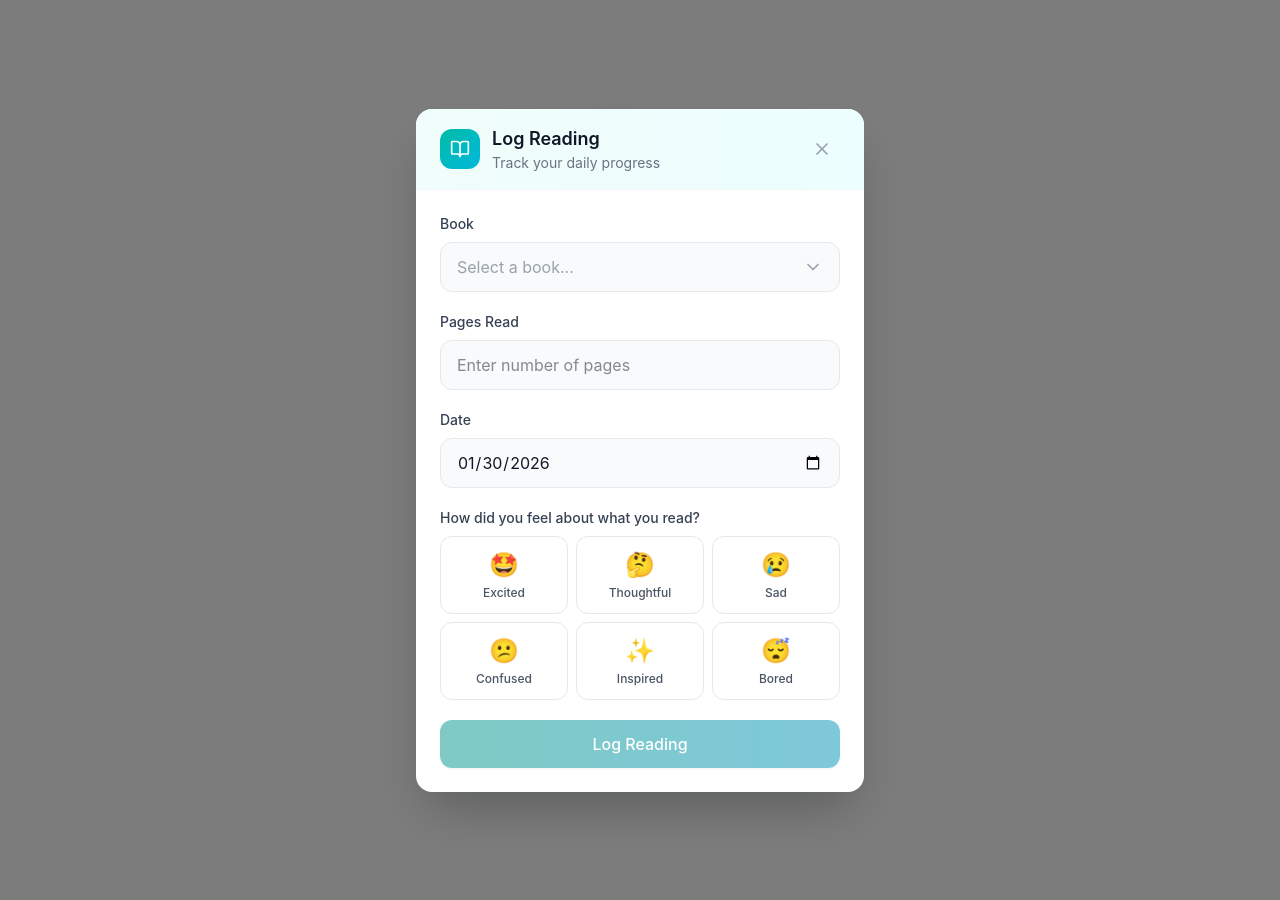
Test case: ReadingCheckinModal › form submission › enables submit button when book and pages are filled
Select a book
Click the button "Select a book..." at (515, 266), box x1=440 y1=242 x2=840 y2=292
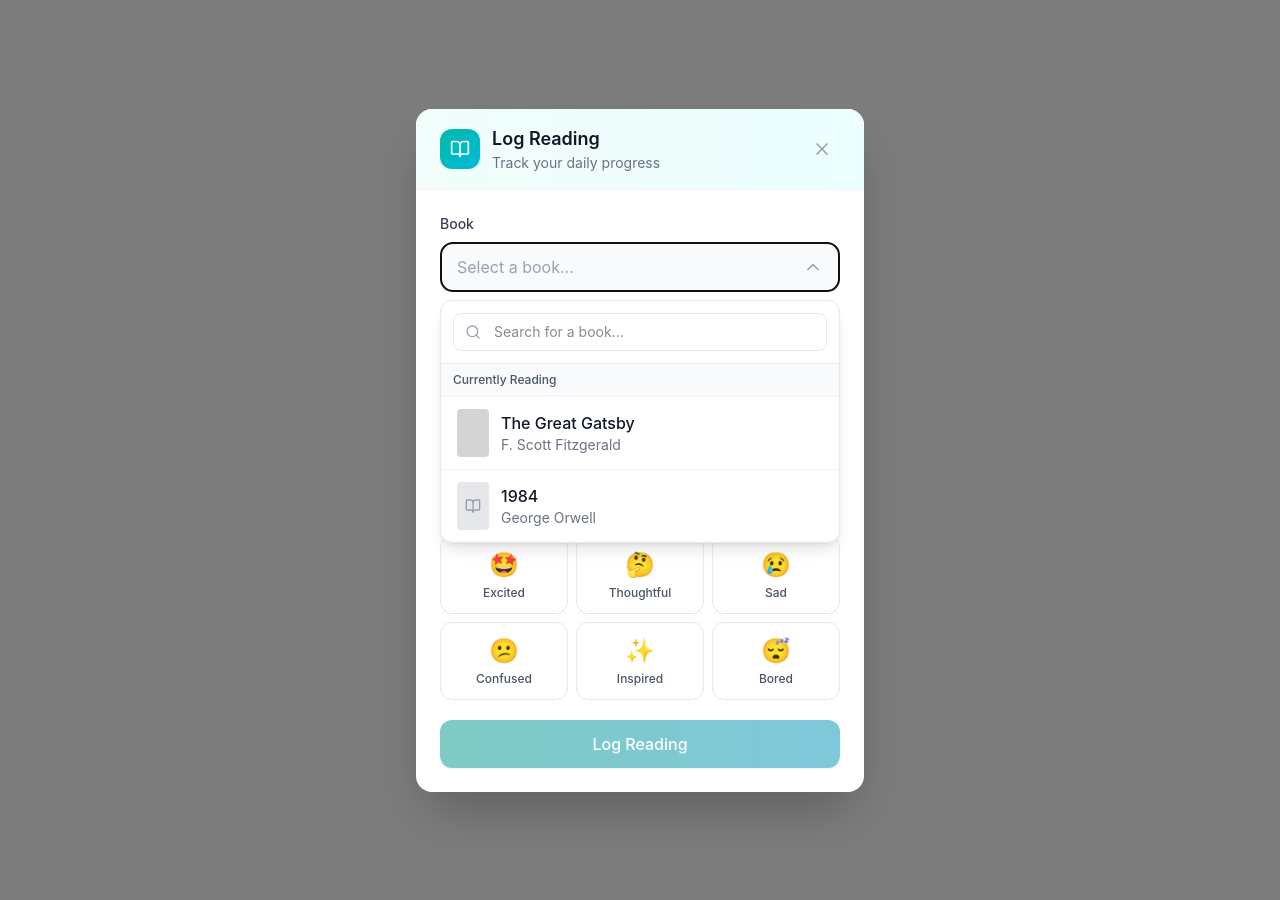
Click the text "The Great Gatsby" at (568, 422), box x1=501 y1=412 x2=635 y2=432
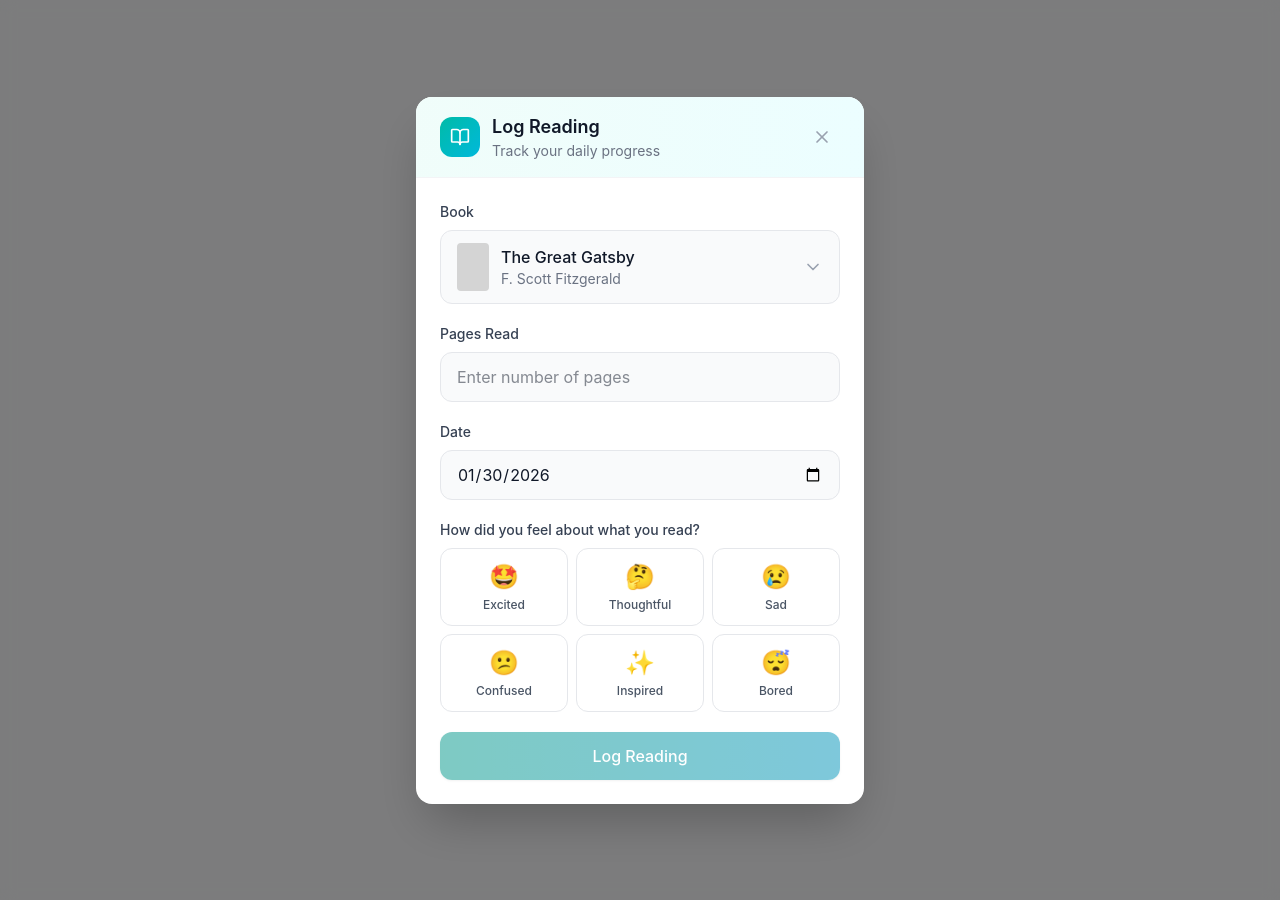
Enter pages
Type "50" into the number field with placeholder "Enter number of pages" at (640, 376), box x1=440 y1=352 x2=840 y2=402
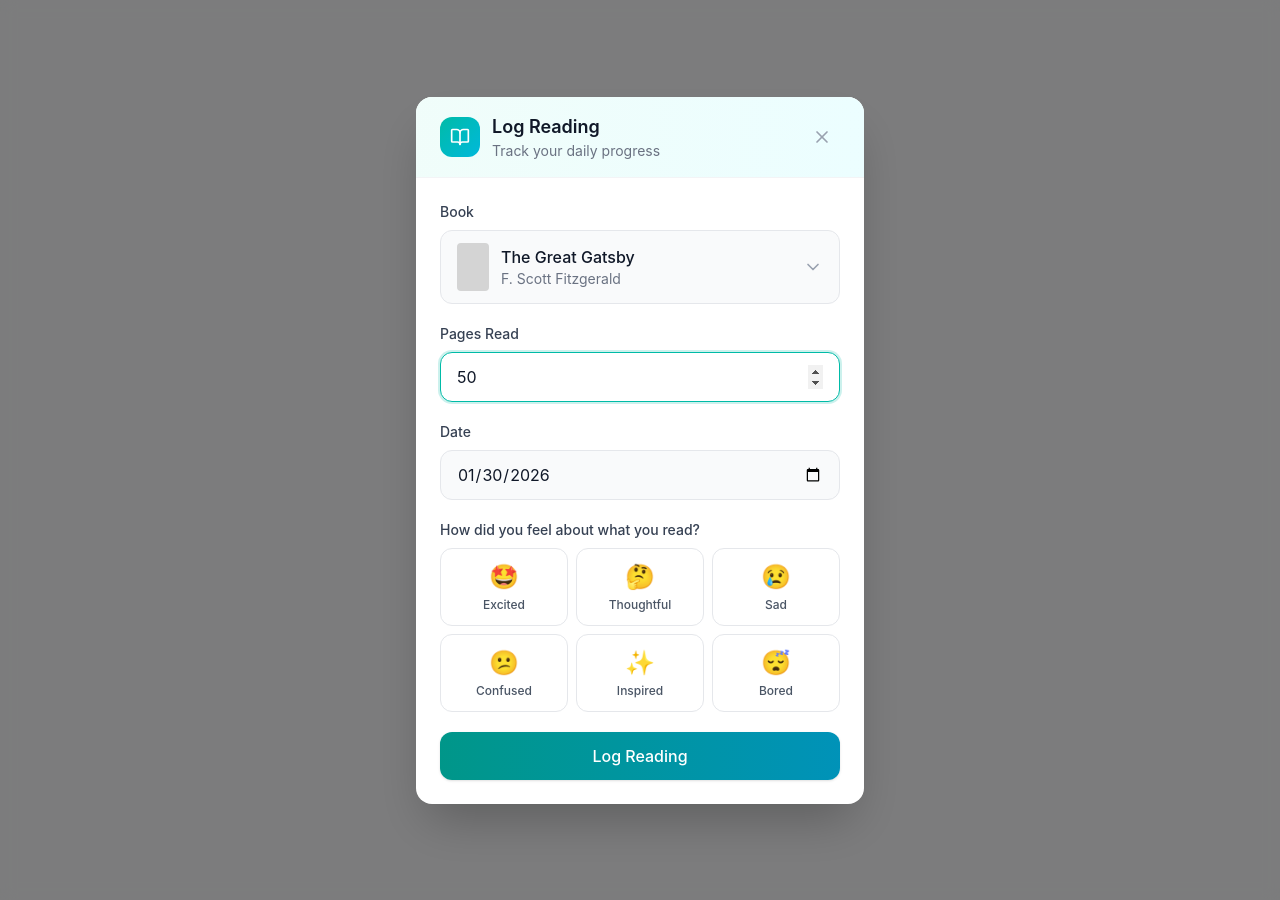
Expected: the button "Log Reading" is enabled, x1=440 y1=732 x2=840 y2=780
